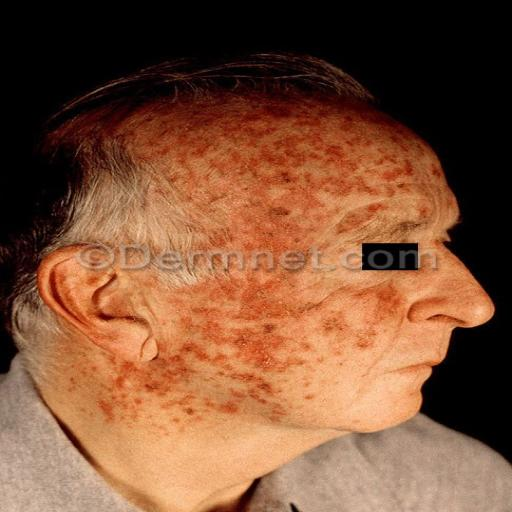Skin_Lesion: (232, 330, 289, 380), (162, 100, 237, 137), (127, 364, 192, 406), (207, 169, 273, 205), (190, 284, 235, 326), (360, 118, 408, 156), (249, 107, 296, 142), (314, 110, 345, 162), (246, 272, 279, 314), (323, 164, 359, 199), (244, 382, 285, 412), (266, 210, 296, 249), (375, 284, 404, 323), (321, 309, 349, 344), (182, 333, 212, 363), (362, 194, 394, 221), (279, 168, 309, 192), (388, 160, 415, 183), (213, 399, 240, 418), (100, 394, 116, 426), (190, 146, 208, 162)
